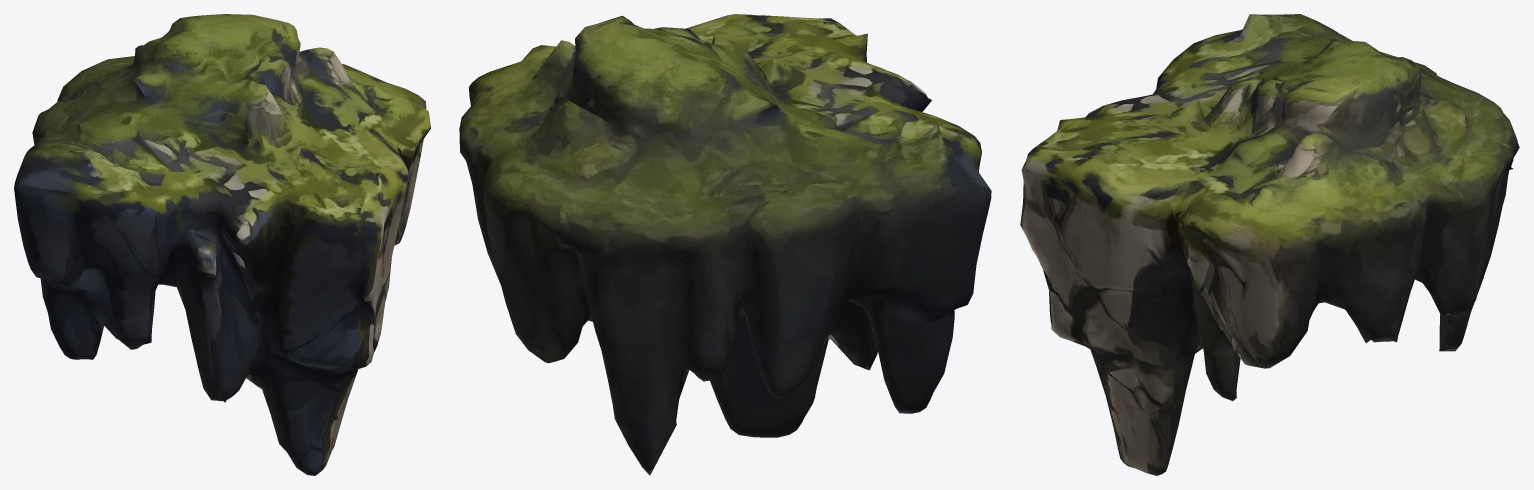
Rendered from floating+island+3d+model.fbx.
3 renders of one model, left to right at view 1: azimuth 30°, elevation 25°; view 2: azimuth 150°, elevation 25°; view 3: azimuth 270°, elevation 25°, orthographic. The views are drawn at different scales.
Parts seen in each view (by area): view 1: tripo_node_0b3d4557; view 2: tripo_node_0b3d4557; view 3: tripo_node_0b3d4557.
Part boxes in pixels (x1=…): tripo_node_0b3d4557: x1=14, y1=14, x2=430, y2=475; tripo_node_0b3d4557: x1=459, y1=14, x2=991, y2=475; tripo_node_0b3d4557: x1=1020, y1=14, x2=1519, y2=475.
Bounding box in the file's own units: 91.88 × 80.06 × 88.33.
